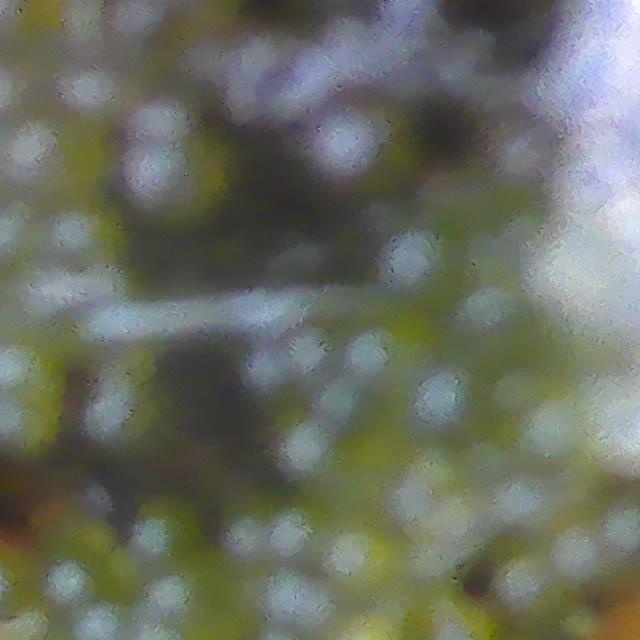SeaGrape: (313, 97, 408, 194), (326, 522, 403, 596), (573, 27, 640, 112), (278, 418, 333, 475), (558, 160, 610, 217), (598, 200, 640, 257)
